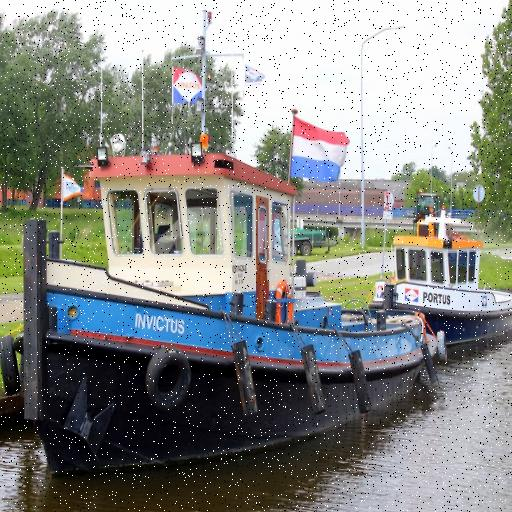tugboat: (1, 7, 448, 488), (367, 204, 512, 355)
